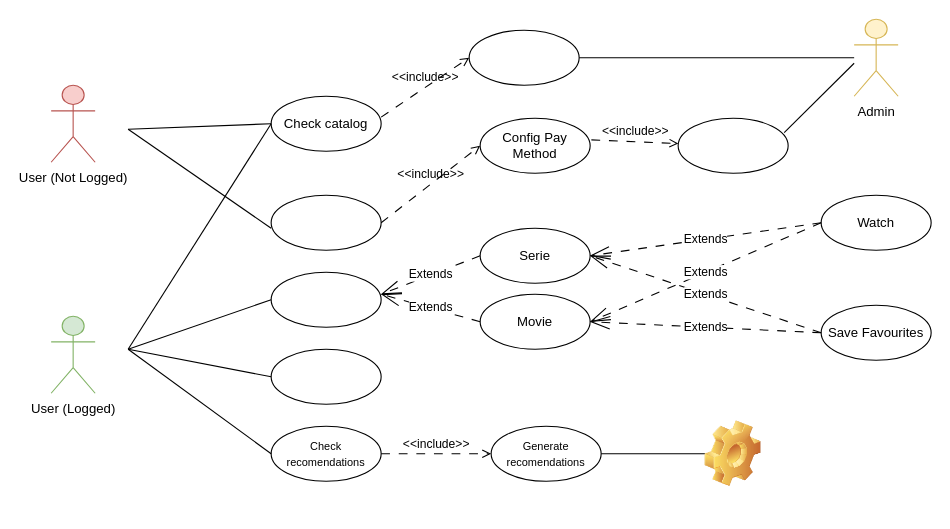
The diagram is 950 pixels wide and 529 high, and some of its shapes have lost their labels. Each missing label, with the box of its shape:
Log In/Out: (270, 348, 381, 404)
Process Payment: (677, 117, 788, 173)
Register: (270, 194, 381, 250)
Search content: (270, 271, 381, 327)
System: (704, 420, 761, 486)
Update catalog: (468, 29, 579, 85)
